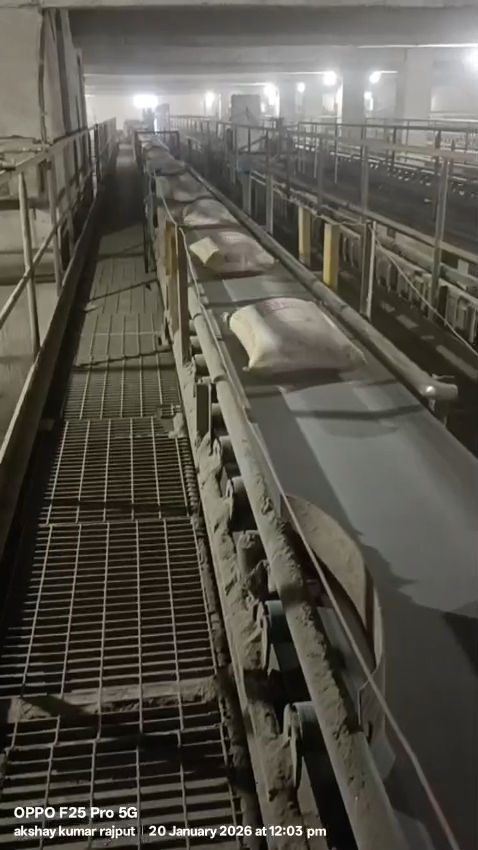Bag: (221, 289, 364, 368), (190, 224, 282, 273)
Printed: (251, 294, 318, 317)
